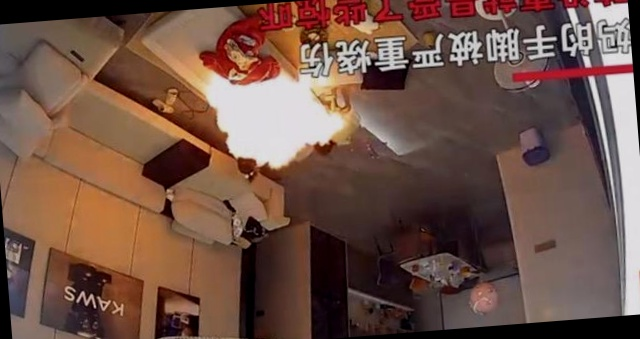fire: (205, 58, 337, 183)
